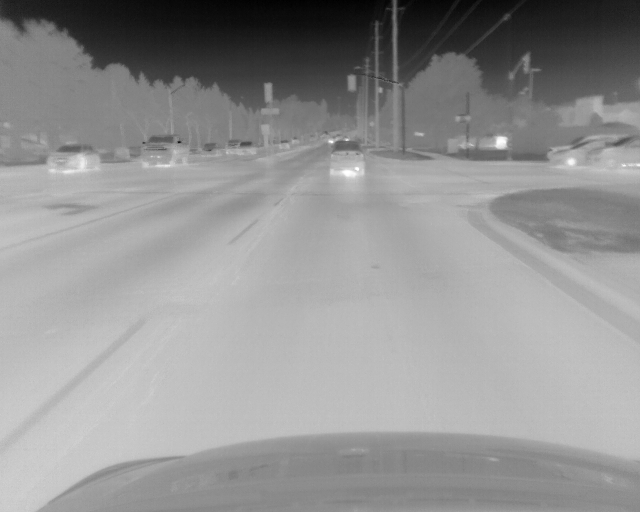car: (546, 134, 628, 165), (141, 134, 189, 167), (47, 143, 101, 172), (590, 137, 640, 166), (328, 141, 367, 178), (549, 141, 602, 167), (200, 143, 219, 157), (239, 140, 255, 155), (226, 138, 239, 153)
